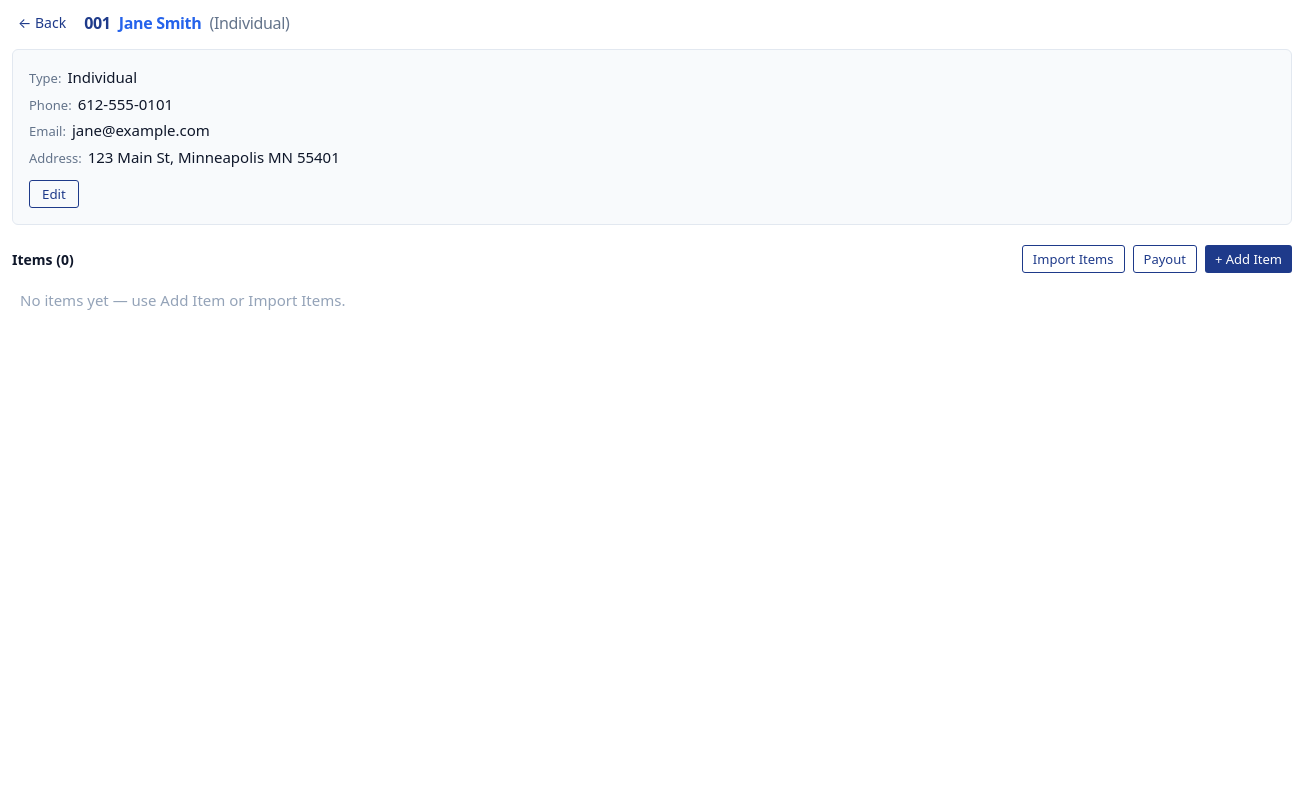
it: SellerDetailPage › shows an error when the ZIP is not 5 digits
The width and height of the screenshot is (1304, 809).
Click the button "Edit".
click(54, 194)  # box [29,180,79,208]
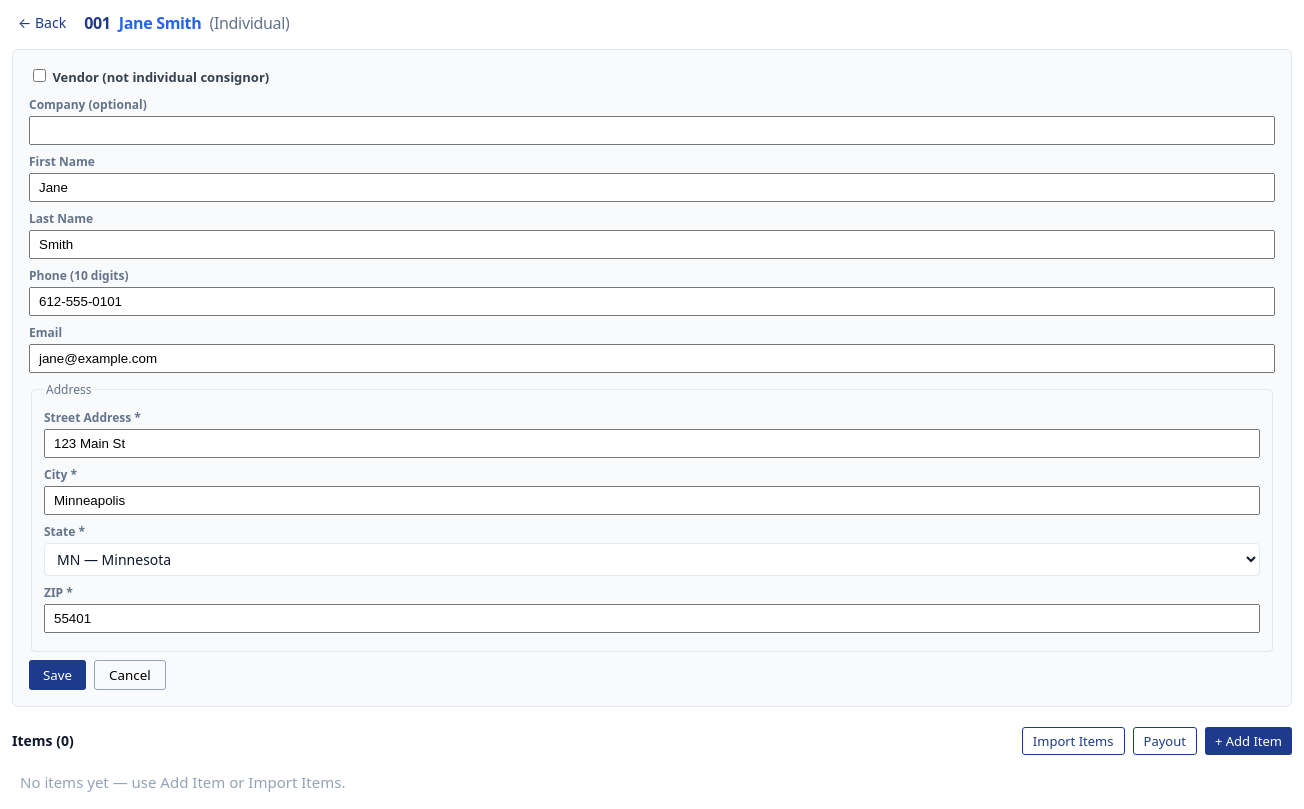
Replace the text in the field labelled "ZIP *" with "12" at (652,618), box [44,604,1260,632]
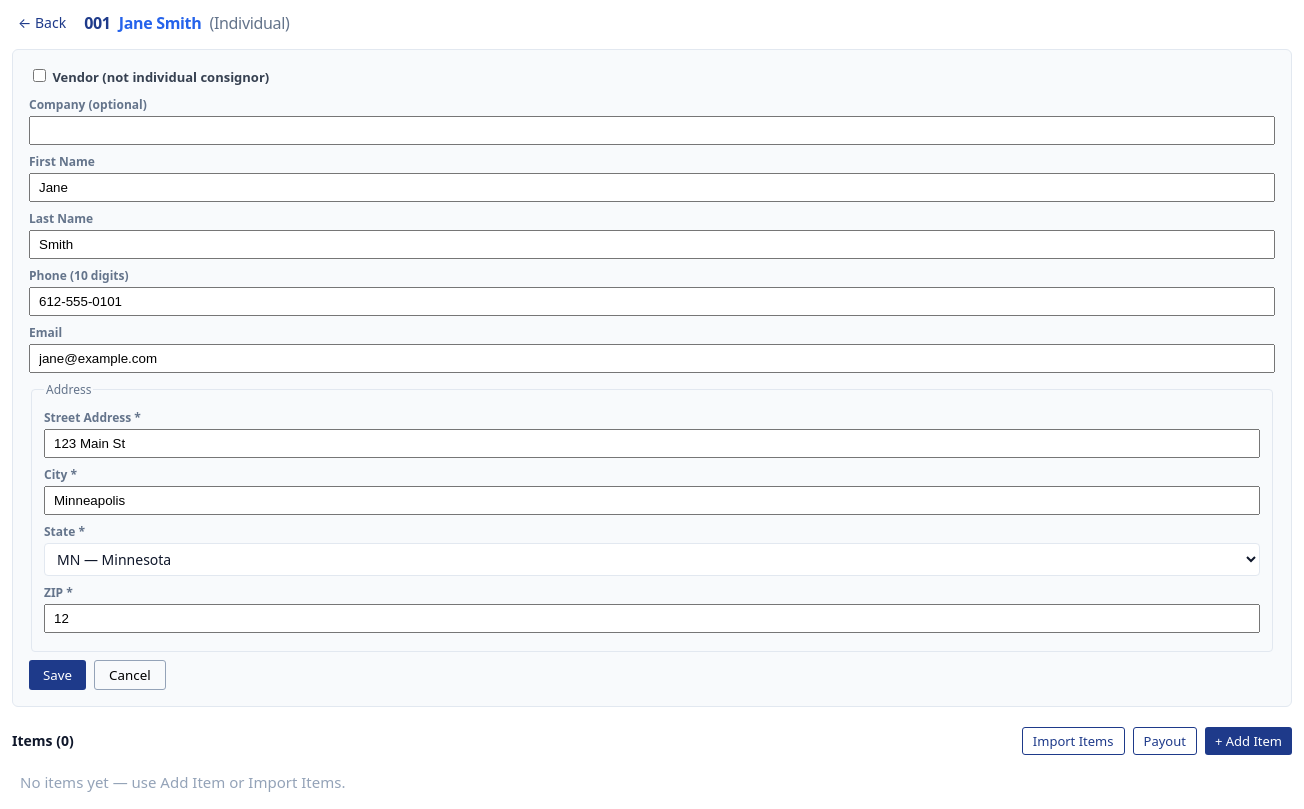
Click the button "Save".
click(58, 674)  # box [29,660,86,690]
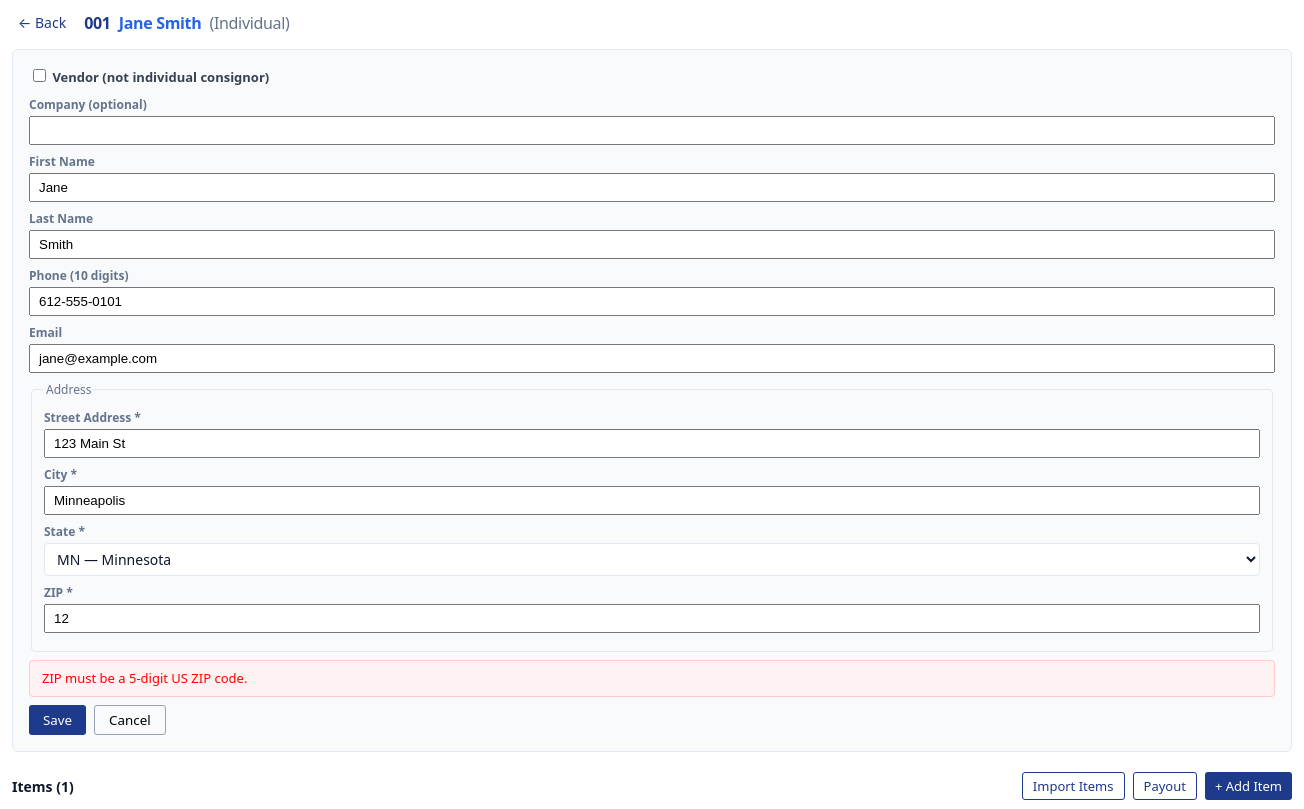
Expected: the message shows "ZIP must be a 5-digit", [42,668,247,686]
